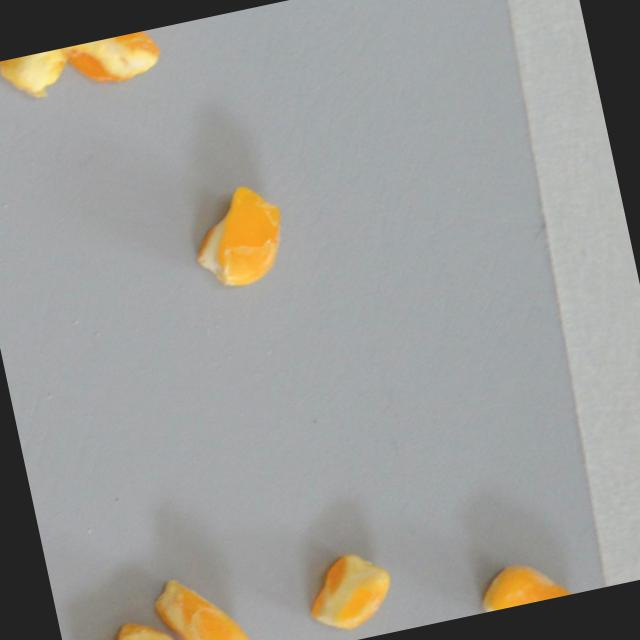pelicula: (179, 176, 297, 298), (299, 544, 401, 640), (146, 563, 251, 640), (471, 550, 584, 613), (58, 28, 165, 91), (0, 47, 72, 105), (71, 609, 191, 640)
